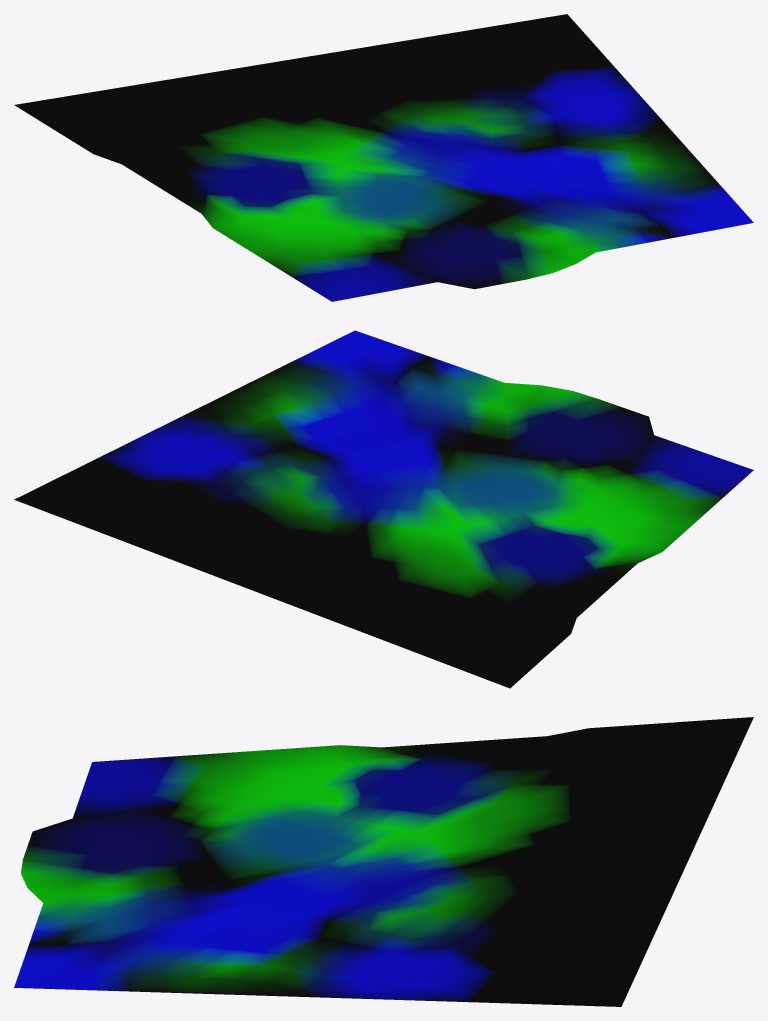
3 views of the same model, one above another, from view 1: azimuth 30°, elevation 25°; view 2: azimuth 150°, elevation 25°; view 3: azimuth 270°, elevation 25° (orthographic). The views are drawn at different scales.
Visible parts, largest first — view 1: Sprite__3_; view 2: Sprite__3_; view 3: Sprite__3_.
Part boxes in pixels (left/top/right/bottom): Sprite__3_: left=14, top=14, right=753, bottom=301; Sprite__3_: left=14, top=330, right=753, bottom=688; Sprite__3_: left=14, top=717, right=753, bottom=1006.
Bounding box in the file's own units: 1042 × 41.47 × 1085.
